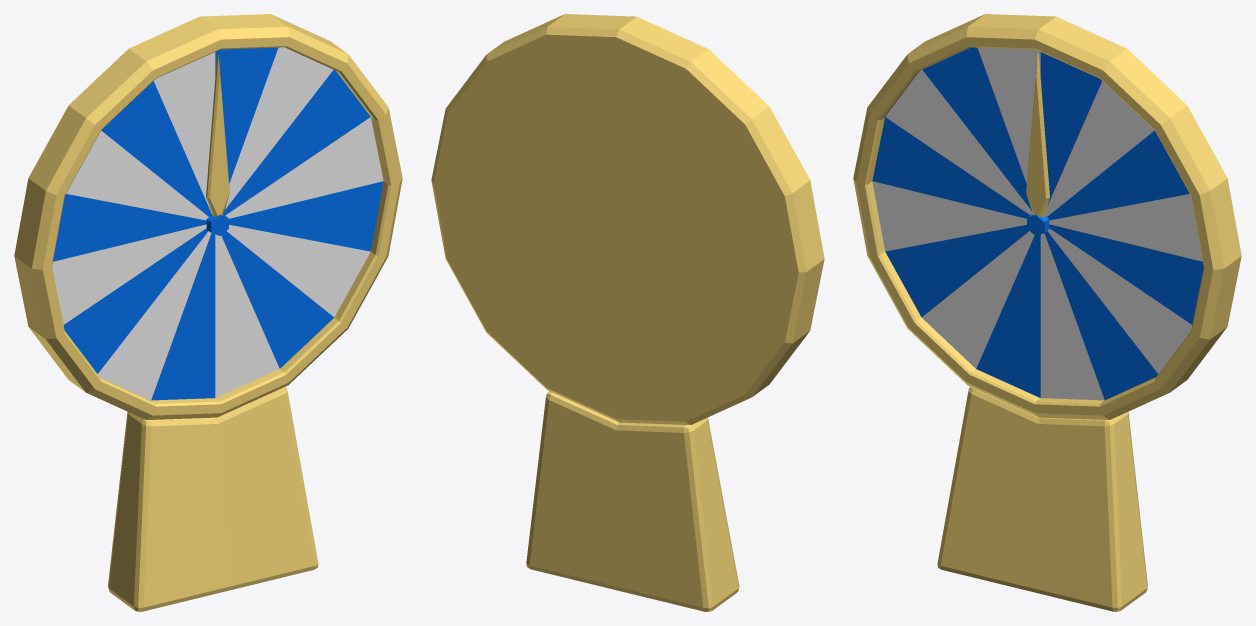
File: clockwork.glb
The picture shows the model from 3 angles, left to right: view 1: azimuth 30°, elevation 25°; view 2: azimuth 150°, elevation 25°; view 3: azimuth 330°, elevation 25°; orthographic projection.
Visible parts, largest first — view 1: Circle, Circle.001; view 2: Circle; view 3: Circle, Circle.001.
Part boxes in pixels (x1,y1,x2,y2): Circle: [14, 14, 402, 611]; Circle.001: [206, 53, 229, 216]; Circle: [431, 14, 824, 611]; Circle: [853, 14, 1241, 611]; Circle.001: [1026, 53, 1049, 217].
Size of the model in its own units: 4 by 5.72 by 0.6083.
